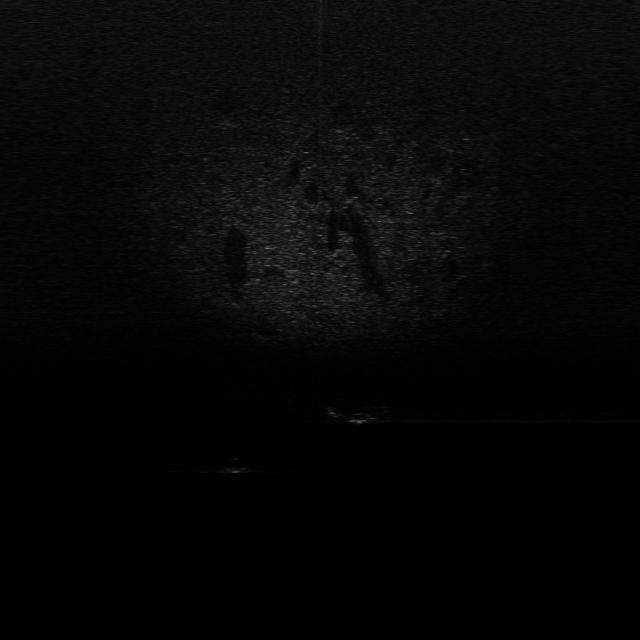ball: (220, 454, 254, 474)
human body: (326, 401, 393, 427)
